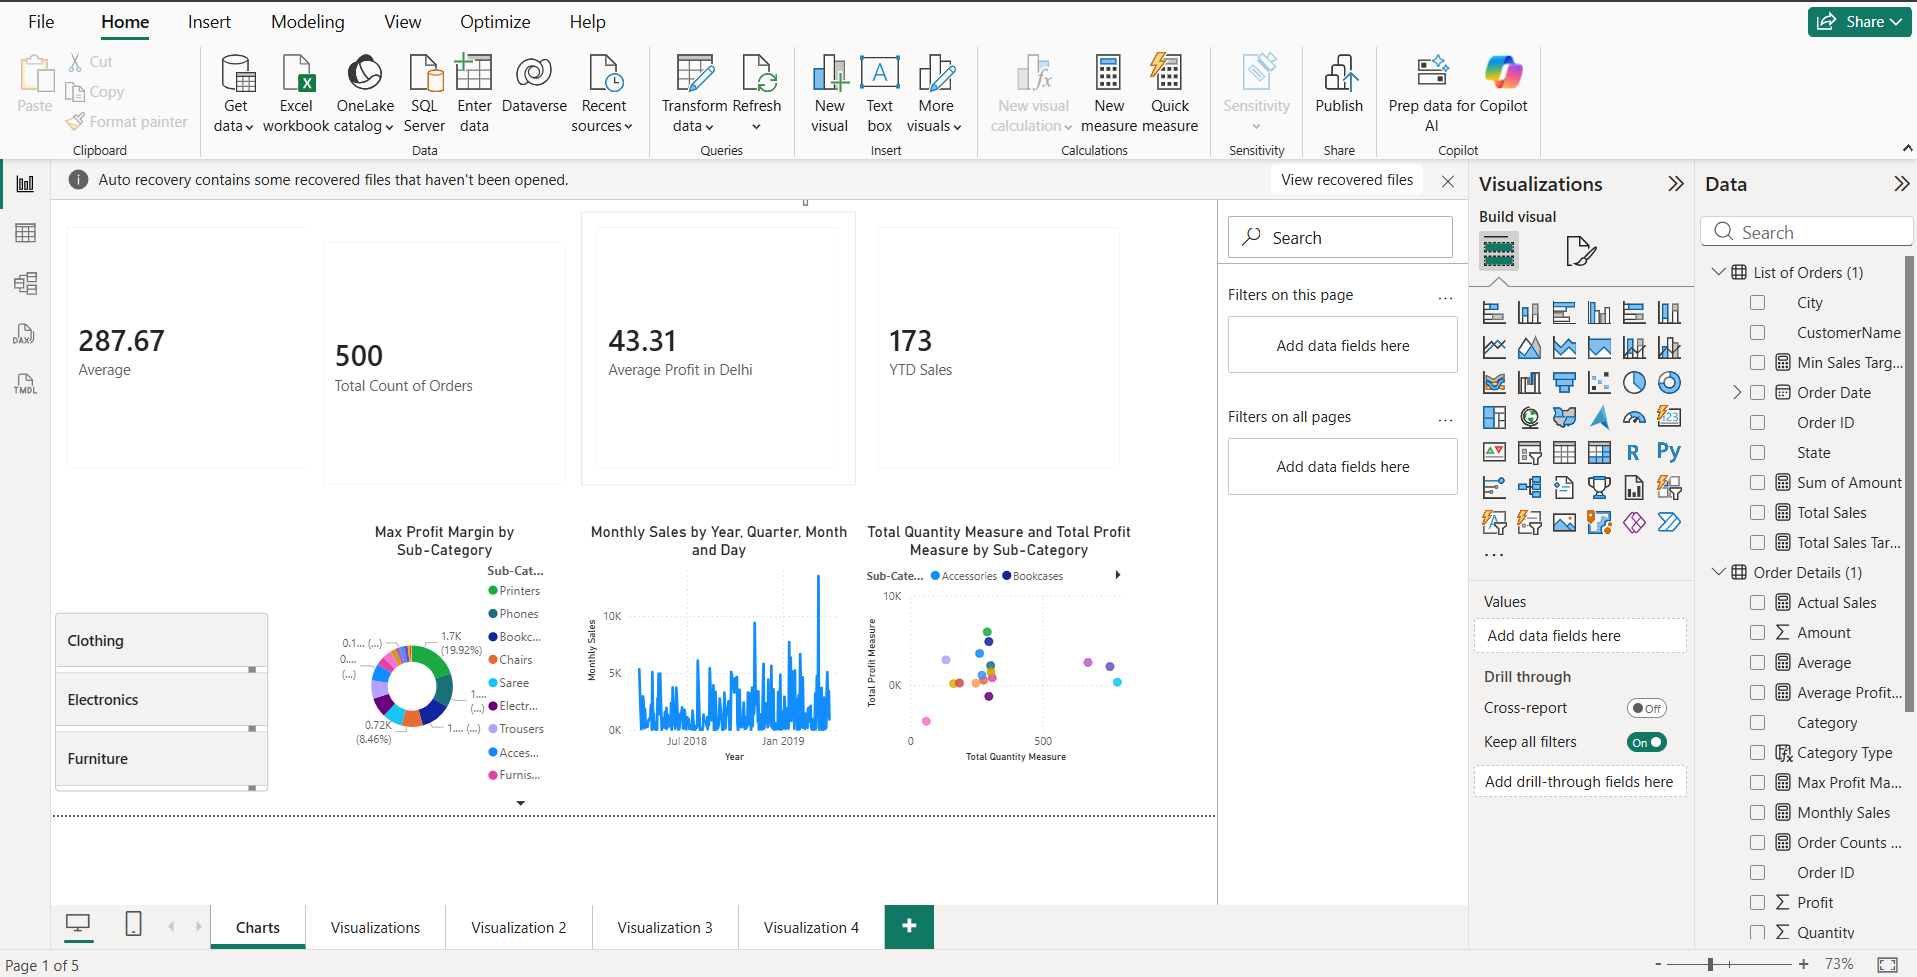

The dashboard page shown, as its layout file describes it:
{"tool":"powerbi","page":{"name":"Charts","canvas":[1280,720],"ordinal":0},"visuals":[{"type":"cardVisual","fields":{"Data":["Order Details (1).Average"]},"box":[0,57.9,300,300],"z":0},{"type":"cardVisual","fields":{"Data":["Order Details (1).Total Count of Orders"]},"box":[280.7,74.3,301.5,301.5],"z":1000},{"type":"cardVisual","fields":{"Data":["Order Details (1).Average Profit in Delhi"]},"box":[582.2,57.9,301.5,300],"z":2000},{"type":"cardVisual","fields":{"Data":["Order Details (1).YTD Sales"]},"box":[890.8,57.4,300.5,300.5],"z":3000},{"type":"cardVisual","fields":{"Rows":["Order Details (1).Category"],"Data":["Order Details (1).Sales Target","Order Details (1).Sum oF Order Details"]},"box":[0,473.8,243.6,246.6],"z":4000},{"type":"donutChart","fields":{"Y":["Order Details (1).Max Profit Margin"],"Category":["Order Details (1).Sub-Category"]},"box":[308.9,399.5,246.6,320.8],"z":5000},{"type":"lineChart","fields":{"Category":["List of Orders (1).Order Date.Variation.Date Hierarchy.Year","List of Orders (1).Order Date.Variation.Date Hierarchy.Quarter","List of Orders (1).Order Date.Variation.Date Hierarchy.Month","List of Orders (1).Order Date.Variation.Date Hierarchy.Day"],"Y":["Order Details (1).Monthly Sales"]},"box":[582.6,399,300.5,267.6],"z":6000},{"type":"scatterChart","fields":{"X":["Order Details (1).Total Quantity Measure"],"Y":["Order Details (1).Total Profit Measure"],"Series":["Order Details (1).Sub-Category"]},"box":[890.8,399,300.5,267.6],"z":7000}]}

Visuals, with their boxes on the page's 1280x720 design canvas (x1, y1, x2, y2). These are canvas units, not pixel positions in the 1917x977 screenshot, which may show the page scaled, cropped or inside an application window:
cardVisual - Order Details (1).Average: select_region(0, 58, 300, 358)
cardVisual - Order Details (1).Total Count of Orders: select_region(281, 74, 582, 376)
cardVisual - Order Details (1).Average Profit in Delhi: select_region(582, 58, 884, 358)
cardVisual - Order Details (1).YTD Sales: select_region(891, 57, 1191, 358)
cardVisual - Order Details (1).Category x Order Details (1).Sales Target: select_region(0, 474, 244, 720)
donutChart - Order Details (1).Max Profit Margin x Order Details (1).Sub-Category: select_region(309, 400, 556, 720)
lineChart - List of Orders (1).Order Date.Variation.Date Hierarchy.Year x List of Orders (1).Order Date.Variation.Date Hierarchy.Quarter: select_region(583, 399, 883, 667)
scatterChart - Order Details (1).Total Quantity Measure x Order Details (1).Total Profit Measure: select_region(891, 399, 1191, 667)
